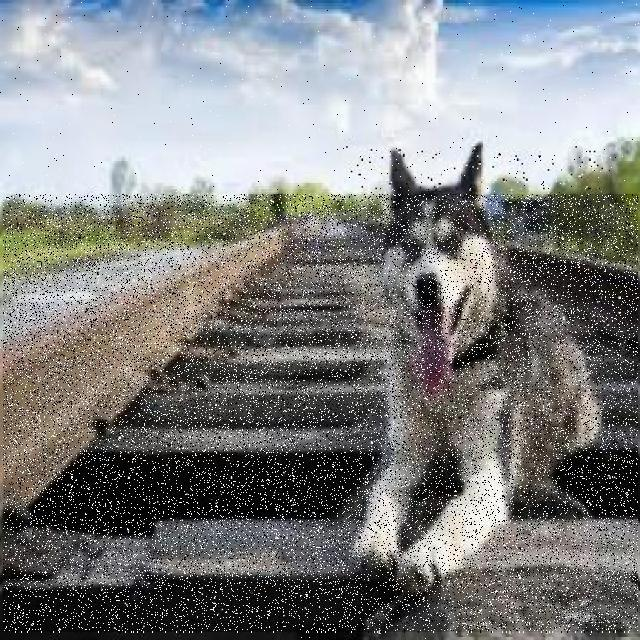rail: (4, 196, 639, 633)
